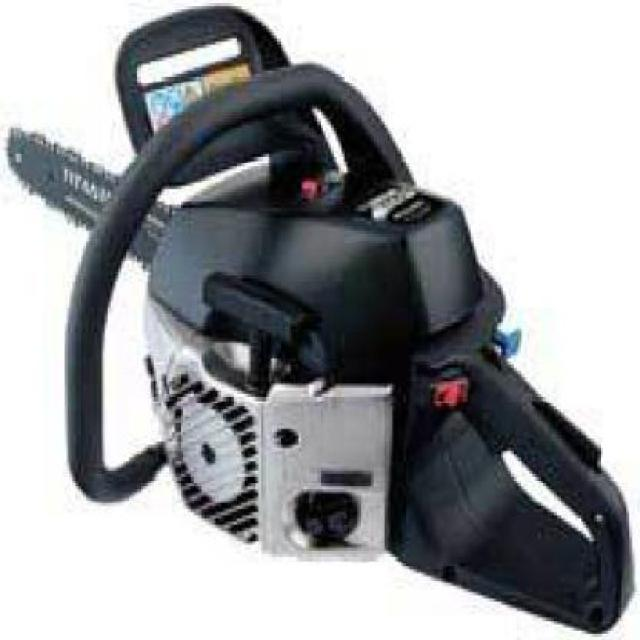Chainsaw: (3, 0, 632, 634)
